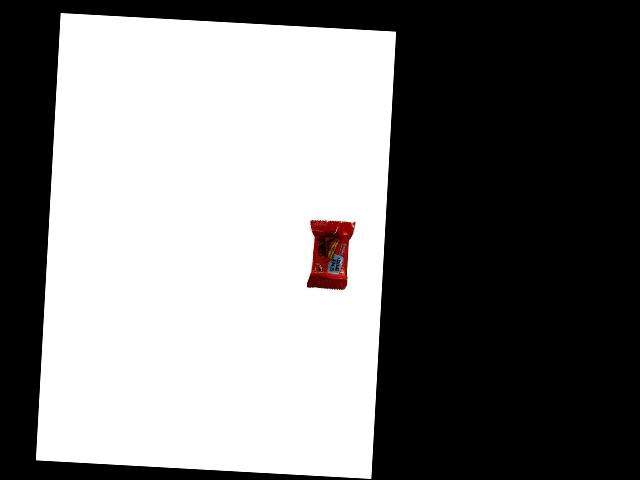chocolate: (307, 219, 359, 296)
